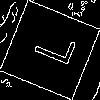L: (24, 25, 76, 68)
